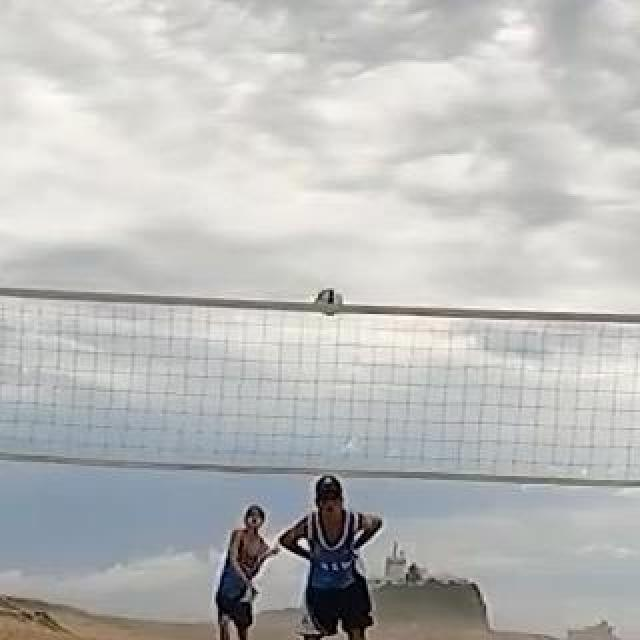volleyball: (318, 289, 346, 315)
